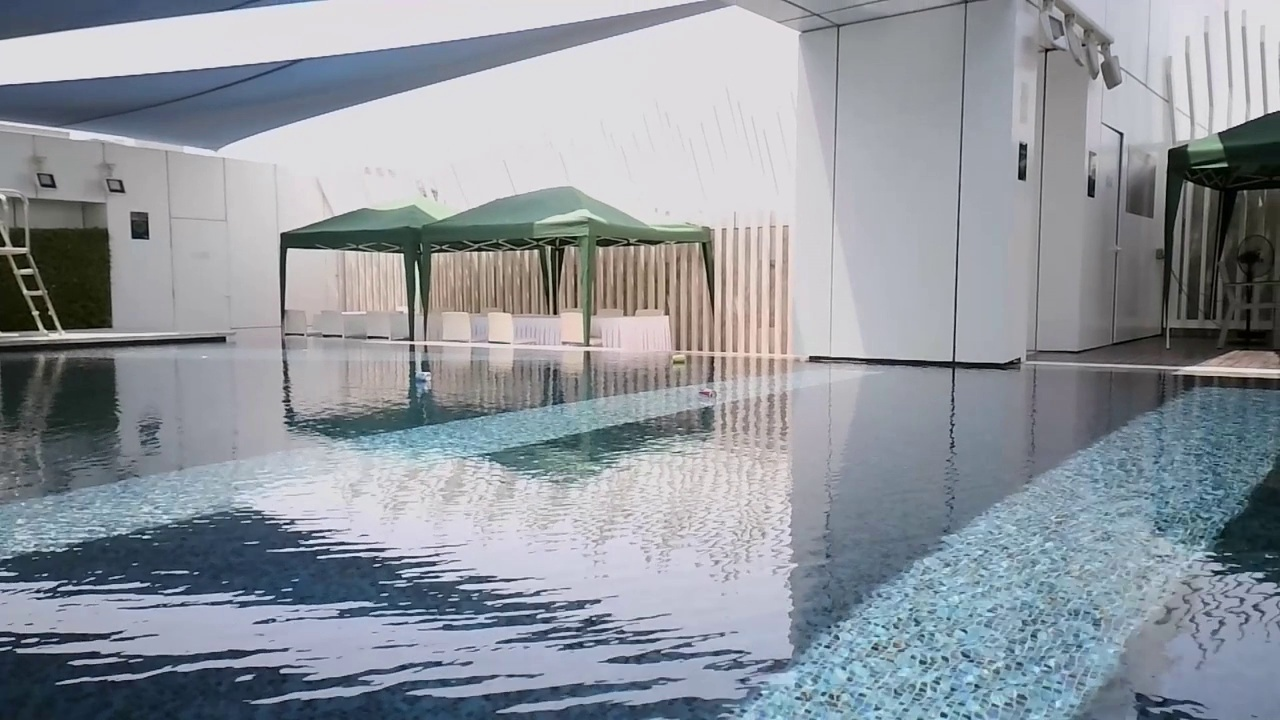debris: (696, 382, 718, 405), (412, 368, 435, 388), (671, 352, 688, 366)
